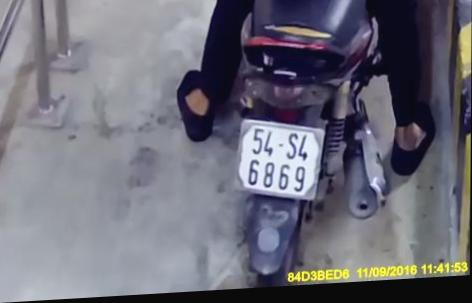License_Plate: (229, 111, 327, 210)
